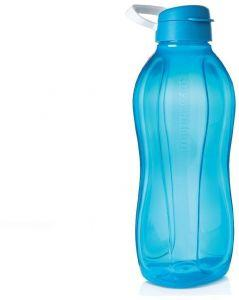PP: (52, 0, 239, 300)
